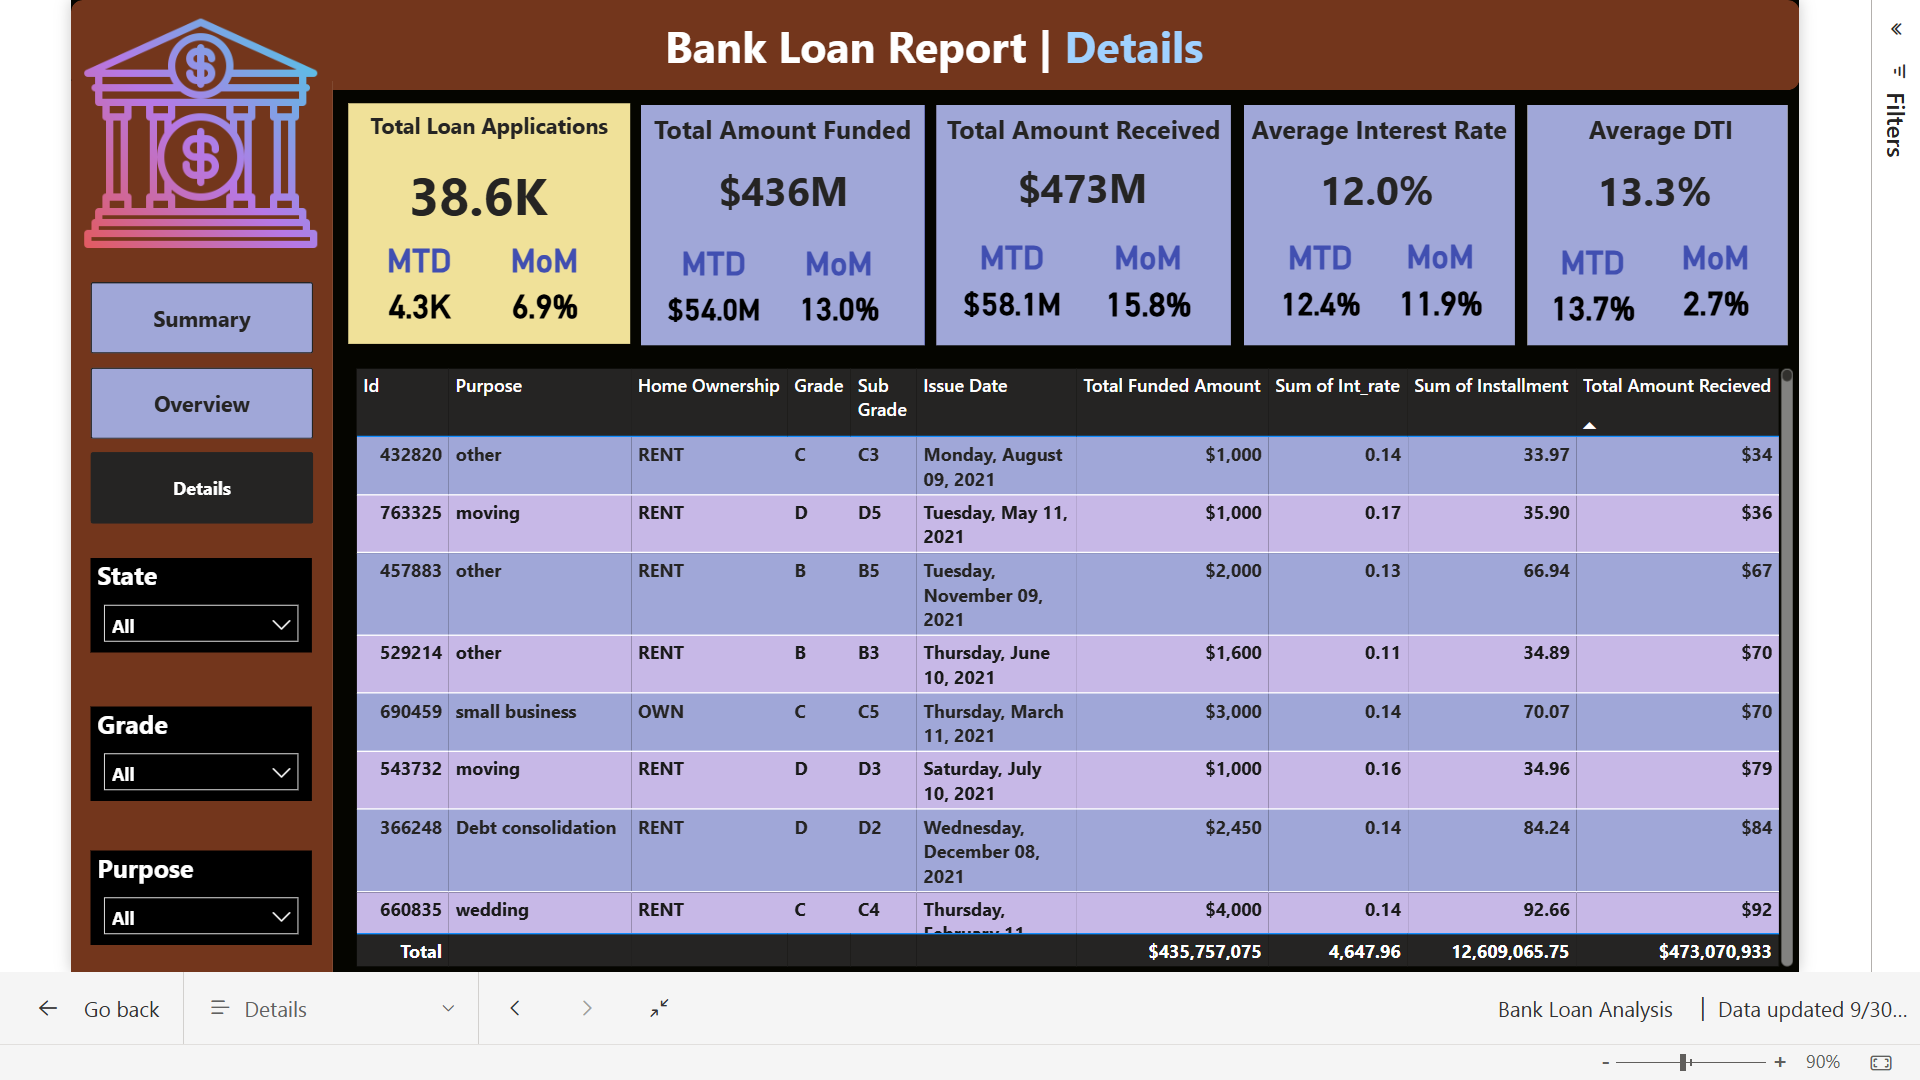

The page's visual inventory and layout, read from the dashboard file:
{"tool":"powerbi","page":{"name":"Details","canvas":[1280,720],"ordinal":2},"visuals":[{"type":"shape","title":"Bank Loan Report | Summarr","box":[0,0,1280.4,66.8],"z":0},{"type":"textbox","box":[205.2,76.3,208.4,178.1],"z":0,"group":"g1"},{"type":"textbox","box":[422.7,77.9,210,178.1],"z":0,"group":"g2"},{"type":"textbox","box":[641,77.9,217.9,178.1],"z":0,"group":"g3"},{"type":"textbox","box":[868.9,77.9,200.4,178.1],"z":0,"group":"g4"},{"type":"textbox","box":[1078.4,77.9,192.5,178.1],"z":0,"group":"g5"},{"type":"textbox","box":[383.3,6.4,512.2,54.1],"z":1000},{"type":"card","fields":{"Values":["bank_loan_data.Total Amount Recieved"]},"box":[691.9,116.2,112.9,47.7],"z":1000,"group":"g3"},{"type":"card","fields":{"Values":["bank_loan_data.Total Funded Amount"]},"box":[472.5,117.8,109.8,47.7],"z":1000,"group":"g2"},{"type":"card","fields":{"Values":["bank_loan_data.Average Interest Rate"]},"box":[913.6,117.8,106.6,46.1],"z":1000,"group":"g4"},{"type":"card","fields":{"Values":["Data Table.Avg DTI"]},"box":[1119.1,117.8,105,47.7],"z":1000,"group":"g5"},{"type":"card","fields":{"Values":["bank_loan_data.Total Loan Applicants"]},"box":[243.1,120.3,116.1,44.5],"z":1000,"group":"g1"},{"type":"shape","box":[0,60.4,194.1,660.1],"z":2000},{"type":"group","id":"g1","title":"Group 1","box":[205.2,76.3,208.4,178.1],"z":3000},{"type":"group","id":"g2","title":"Group 1","box":[422.7,77.9,210,178.1],"z":4000},{"type":"group","id":"g3","title":"Group 1","box":[641,77.9,217.9,178.1],"z":5000},{"type":"group","id":"g4","title":"Group 1","box":[868.9,77.9,200.4,178.1],"z":6000},{"type":"card","title":"MTD","fields":{"Values":["Data Table.MTD Amount Recieved"]},"box":[655.9,176.6,82.7,68.4],"z":6000,"group":"g3"},{"type":"card","title":"MTD","fields":{"Values":["bank_loan_data.MTD Average Interest Rate"]},"box":[887,176.9,77.2,68.4],"z":6000,"group":"g4"},{"type":"card","title":"MTD","fields":{"Values":["bank_loan_data.MTD"]},"box":[217.8,178.3,80.1,67.1],"z":6000,"group":"g1"},{"type":"card","title":"MTD","fields":{"Values":["bank_loan_data.MTD Avg DTI"]},"box":[1090,179.9,74,67.1],"z":6000,"group":"g5"},{"type":"card","title":"MTD","fields":{"Values":["bank_loan_data.MTD Funded Amount"]},"box":[435.7,180.7,80.8,67.1],"z":6000,"group":"g2"},{"type":"group","id":"g5","title":"Group 1","box":[1078.4,77.9,192.5,178.1],"z":7000},{"type":"slicer","title":"State","fields":{"Values":["bank_loan_data.address_state"]},"box":[14.3,413.6,163.8,70],"z":8000},{"type":"card","title":"MoM","fields":{"Values":["bank_loan_data.PMTD Average Interest Rate"]},"box":[975.3,175.3,77.2,68.4],"z":8500,"group":"g4"},{"type":"card","title":"MoM","fields":{"Values":["Data Table.MoM Amount Recieved"]},"box":[755.5,176.6,84.3,68.4],"z":8500,"group":"g3"},{"type":"card","title":"MoM","fields":{"Values":["Data Table.MoM Avg DTI"]},"box":[1179.5,176.6,76.3,66.8],"z":8500,"group":"g5"},{"type":"card","title":"MoM","fields":{"Values":["bank_loan_data.MoM"]},"box":[309.4,178.3,81.3,67.1],"z":8500,"group":"g1"},{"type":"card","title":"MoM","fields":{"Values":["Data Table.MoM Funded Applications"]},"box":[528,180.7,81.9,67.1],"z":8500,"group":"g2"},{"type":"slicer","title":"Grade","fields":{"Values":["bank_loan_data.grade"]},"box":[14.3,523.3,163.8,70],"z":9000},{"type":"slicer","title":"Purpose","fields":{"Values":["bank_loan_data.purpose"]},"box":[14.3,629.9,163.8,70],"z":10000},{"type":"tableEx","fields":{"Values":["bank_loan_data.id","bank_loan_data.purpose","bank_loan_data.home_ownership","bank_loan_data.grade","bank_loan_data.sub_grade","bank_loan_data.issue_date","bank_loan_data.Total Funded Amount","Sum(bank_loan_data.int_rate)","Sum(bank_loan_data.installment)","bank_loan_data.Total Amount Recieved"]},"box":[205.2,267.2,1075.3,453.3],"z":11000},{"type":"pageNavigator","box":[14.3,208.4,165.4,181.3],"z":12000},{"type":"image","box":[4.8,8,182.9,184.5],"z":13000}]}

Visuals, with their boxes on the page's 1280x720 design canvas (x1, y1, x2, y2). These are canvas units, not pixel positions in the 1920x1080 screenshot, which may show the page scaled, cropped or inside an application window:
"Bank Loan Report | Summarr" shape: bbox=[0, 0, 1280, 67]
textbox: bbox=[205, 76, 414, 254]
textbox: bbox=[423, 78, 633, 256]
textbox: bbox=[641, 78, 859, 256]
textbox: bbox=[869, 78, 1069, 256]
textbox: bbox=[1078, 78, 1271, 256]
textbox: bbox=[383, 6, 896, 60]
card - bank_loan_data.Total Amount Recieved: bbox=[692, 116, 805, 164]
card - bank_loan_data.Total Funded Amount: bbox=[472, 118, 582, 166]
card - bank_loan_data.Average Interest Rate: bbox=[914, 118, 1020, 164]
card - Data Table.Avg DTI: bbox=[1119, 118, 1224, 166]
card - bank_loan_data.Total Loan Applicants: bbox=[243, 120, 359, 165]
shape: bbox=[0, 60, 194, 720]
"Group 1" group: bbox=[205, 76, 414, 254]
"Group 1" group: bbox=[423, 78, 633, 256]
"Group 1" group: bbox=[641, 78, 859, 256]
"Group 1" group: bbox=[869, 78, 1069, 256]
"MTD" card: bbox=[656, 177, 739, 245]
"MTD" card: bbox=[887, 177, 964, 245]
"MTD" card: bbox=[218, 178, 298, 245]
"MTD" card: bbox=[1090, 180, 1164, 247]
"MTD" card: bbox=[436, 181, 516, 248]
"Group 1" group: bbox=[1078, 78, 1271, 256]
"State" slicer: bbox=[14, 414, 178, 484]
"MoM" card: bbox=[975, 175, 1052, 244]
"MoM" card: bbox=[756, 177, 840, 245]
"MoM" card: bbox=[1180, 177, 1256, 243]
"MoM" card: bbox=[309, 178, 391, 245]
"MoM" card: bbox=[528, 181, 610, 248]
"Grade" slicer: bbox=[14, 523, 178, 593]
"Purpose" slicer: bbox=[14, 630, 178, 700]
tableEx - bank_loan_data.id x bank_loan_data.purpose: bbox=[205, 267, 1280, 720]
pageNavigator: bbox=[14, 208, 180, 390]
image: bbox=[5, 8, 188, 192]
